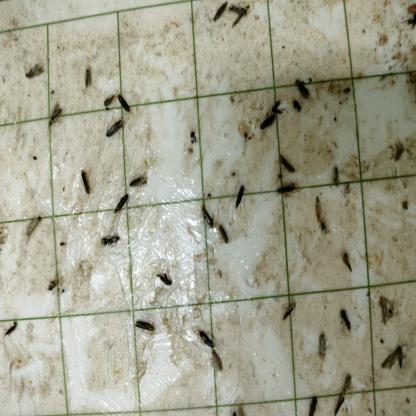prays_oleae: (382, 336, 408, 374), (376, 289, 401, 325), (22, 209, 41, 242), (276, 150, 300, 176), (113, 90, 136, 117), (132, 310, 154, 338), (336, 376, 354, 410), (22, 60, 45, 86), (281, 292, 300, 323), (74, 170, 95, 198), (274, 178, 296, 202), (154, 268, 176, 292), (338, 244, 356, 273), (46, 98, 63, 128), (193, 326, 216, 348), (198, 202, 216, 230), (232, 183, 248, 214), (338, 305, 353, 338), (211, 2, 230, 28), (292, 76, 311, 100), (106, 118, 127, 139), (100, 230, 122, 250), (229, 4, 249, 26), (258, 112, 278, 134), (113, 188, 131, 212), (315, 334, 329, 364), (128, 171, 150, 189), (216, 220, 230, 248), (305, 392, 321, 414), (4, 317, 16, 346), (270, 95, 286, 116), (312, 194, 324, 222), (330, 164, 342, 190), (210, 348, 224, 369), (47, 274, 61, 294), (83, 66, 94, 89), (103, 94, 117, 108)
